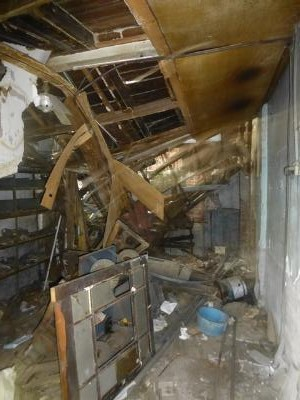bowl: (193, 304, 232, 340)
bucket: (220, 275, 253, 301)
